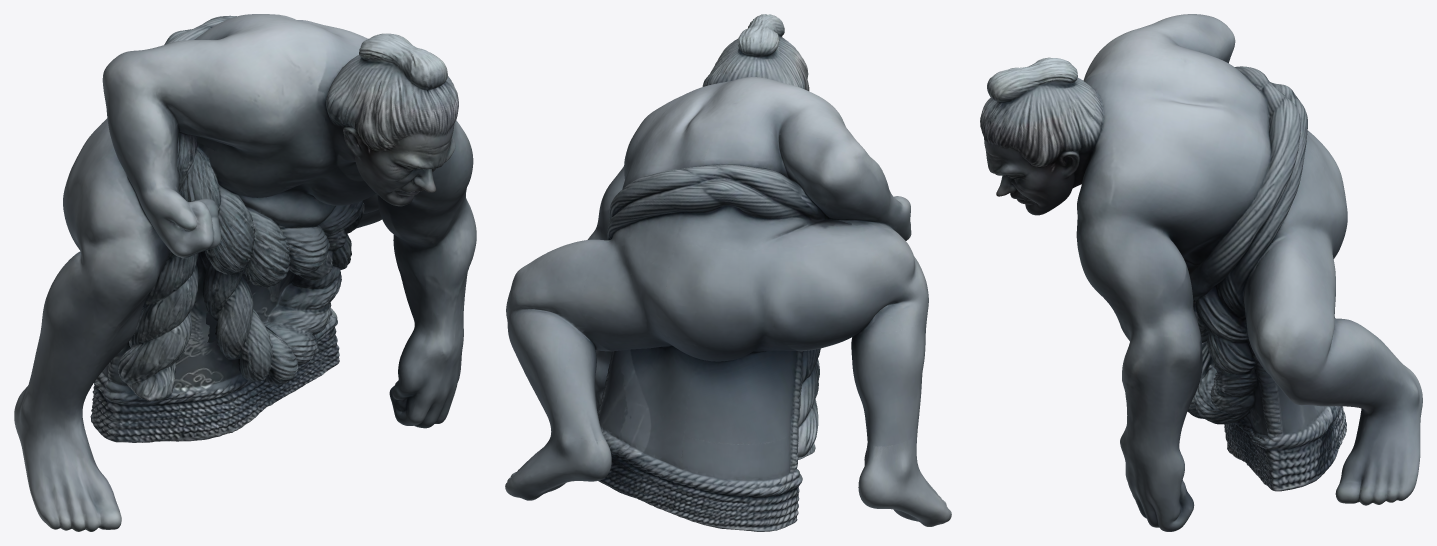
The model's file is pawn.glb.
3 renders of one model, left to right at view 1: azimuth 30°, elevation 25°; view 2: azimuth 150°, elevation 25°; view 3: azimuth 270°, elevation 25°, orthographic. The views are drawn at different scales.
Parts seen in each view (by area): view 1: tmpk__ccuc_obj; view 2: tmpk__ccuc_obj; view 3: tmpk__ccuc_obj.
Part boxes in pixels (x1=…): tmpk__ccuc_obj: x1=14, y1=14, x2=476, y2=531; tmpk__ccuc_obj: x1=505, y1=14, x2=951, y2=531; tmpk__ccuc_obj: x1=980, y1=14, x2=1422, y2=531.
Size of the model in its own units: 0.9974 by 1 by 0.9339.
1 material, 1 textured.
